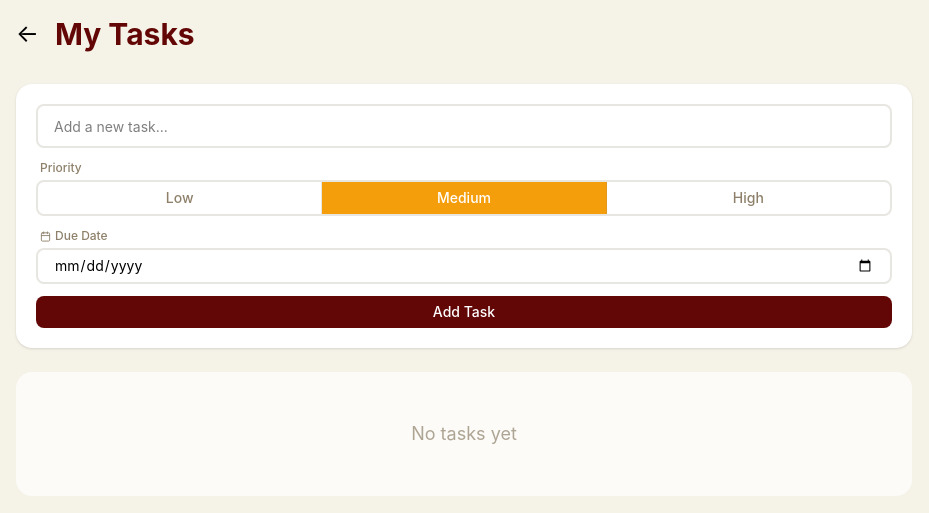
Tasks Hub — integration flows › create task with High urgency → badge shows High
This screenshot has width=929, height=513.
Click the button "High".
click(748, 198)  # box [607,182,890,214]
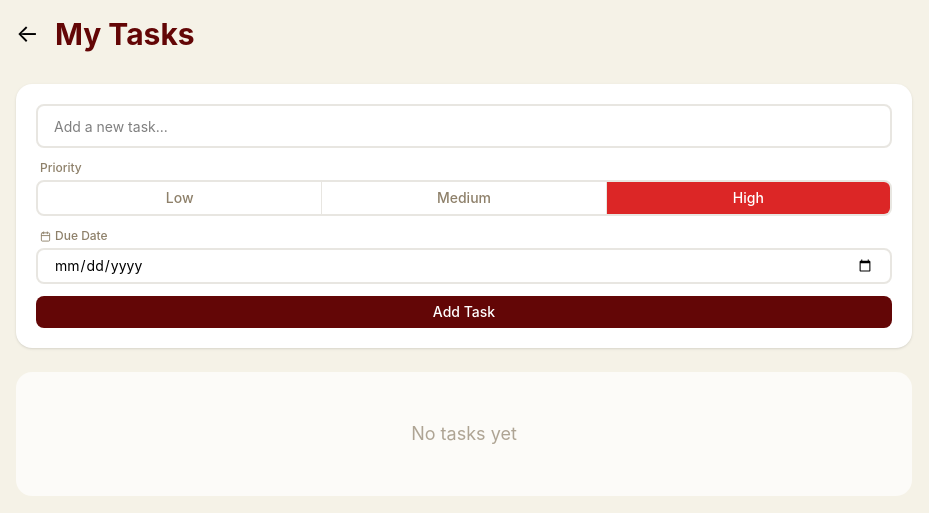
Type "Emergency repair" into the field with placeholder "Add a new task...".
click(464, 126); type("Emergency repair")  # box [36,104,892,148]
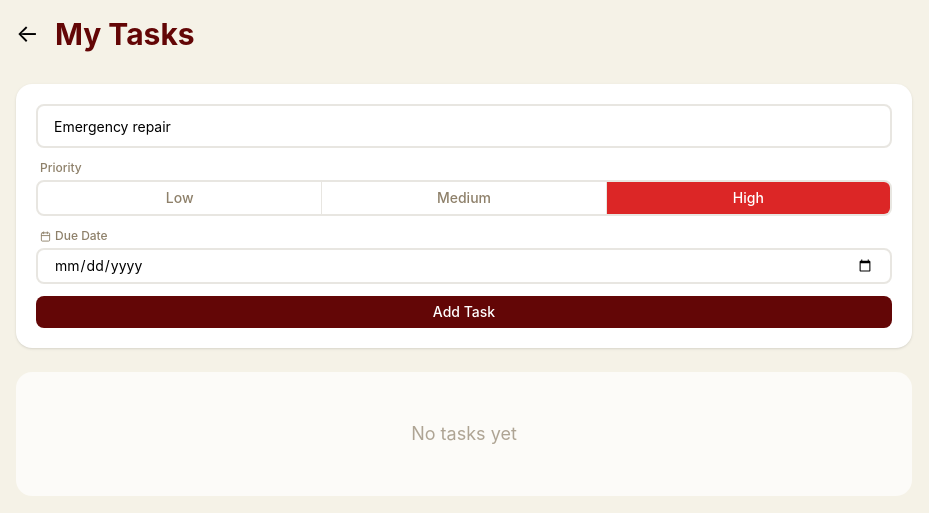
Click the button "Add Task".
click(464, 312)  # box [36,296,892,328]
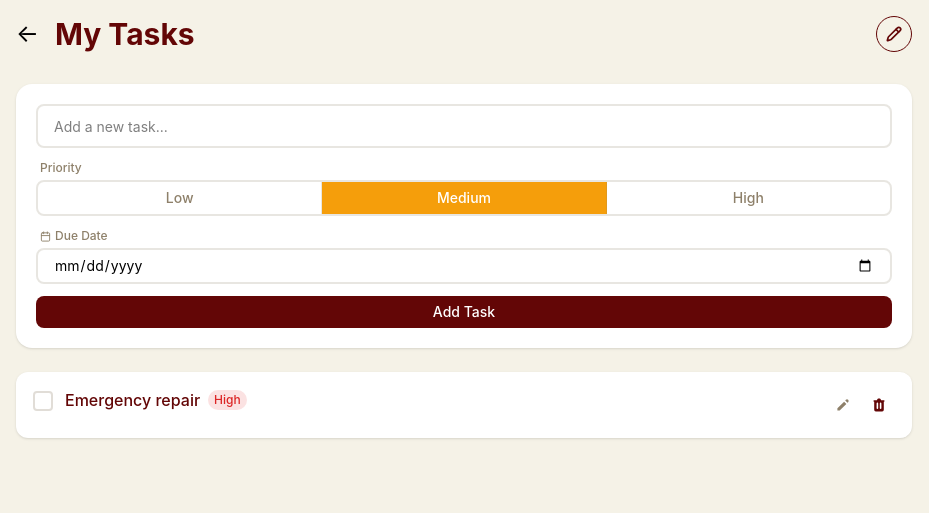
Check: the text "Emergency repair" is shown, box [65,389,200,411]
